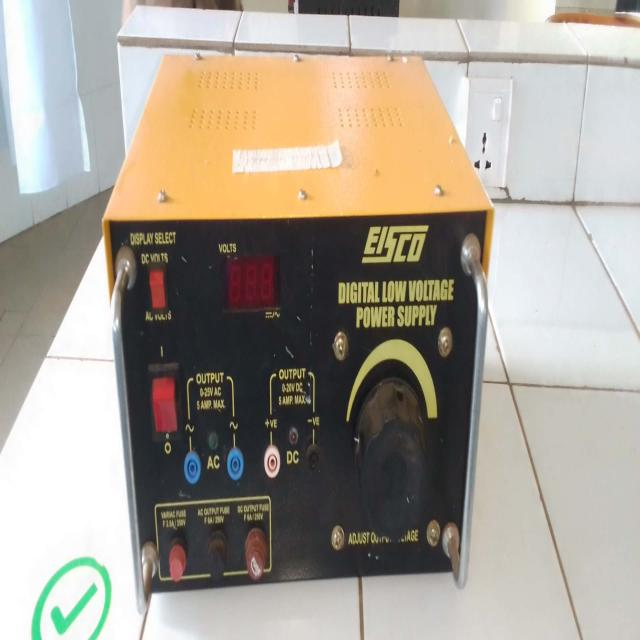Digital Power Supply: (93, 40, 503, 618)
